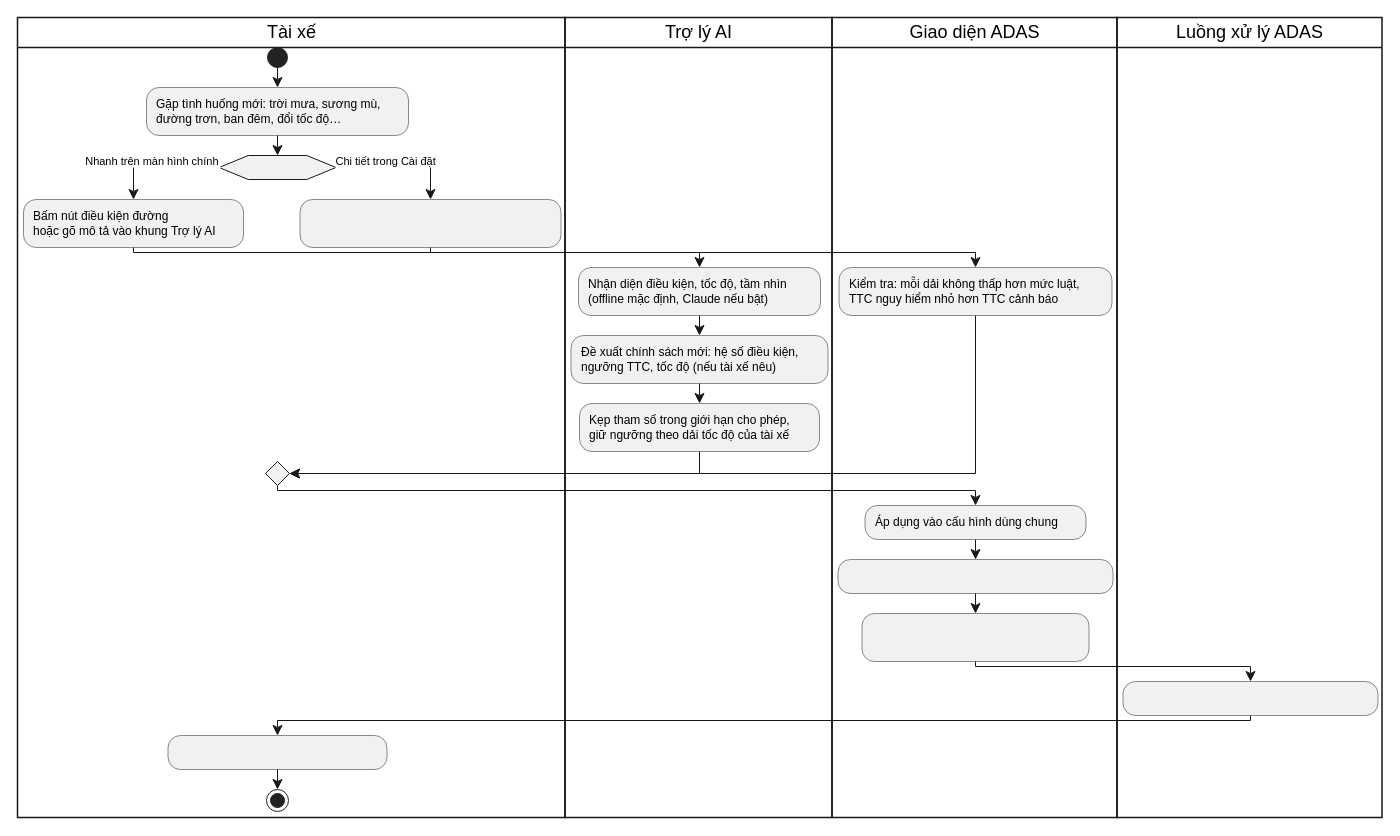
This 1400x836 diagram has some shape labels left out. The shapes that lost their labels are listed below. From the top down, each one's centre as x and y in pixels, then its label:
(x=277, y=167): Cách điều chỉnh?
(x=430, y=223): Mở Cài đặt, chỉnh tab "Ngưỡng cảnh báo" và tab "Điều kiện đường"
(x=975, y=576): Lưu cấu hình và một dòng lịch sử cấu hình
(x=975, y=637): Hiển thị ngưỡng mới và căn cứ trên thẻ tốc độ, thẻ điều kiện đường
(x=1250, y=698): Dùng ngưỡng mới từ khung hình kế tiếp
(x=277, y=752): Giữ khoảng cách theo ngưỡng mới
